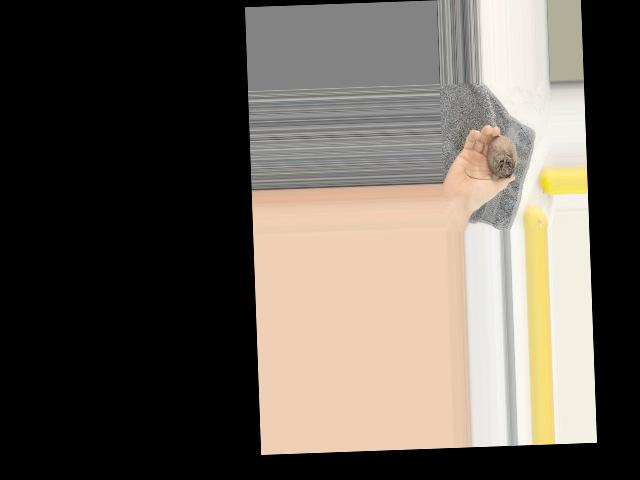beet: (463, 134, 518, 179)
